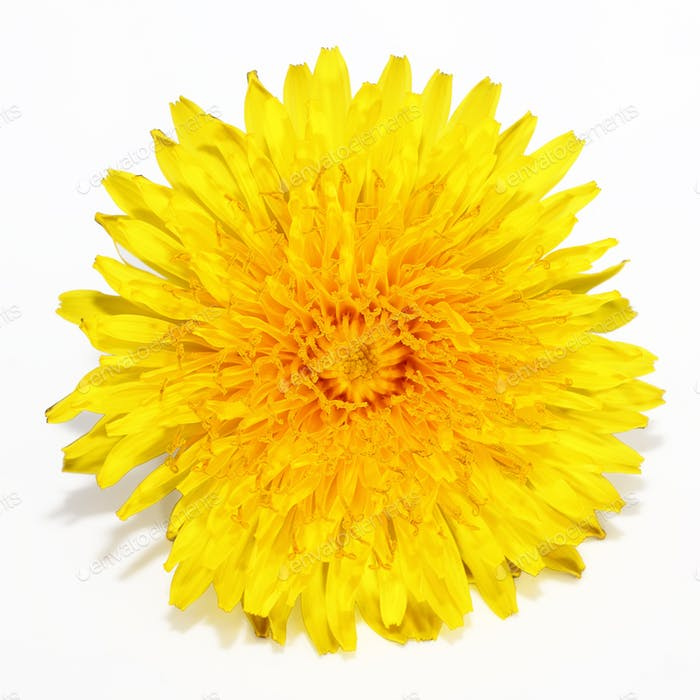dandelion: (108, 125, 595, 620)
